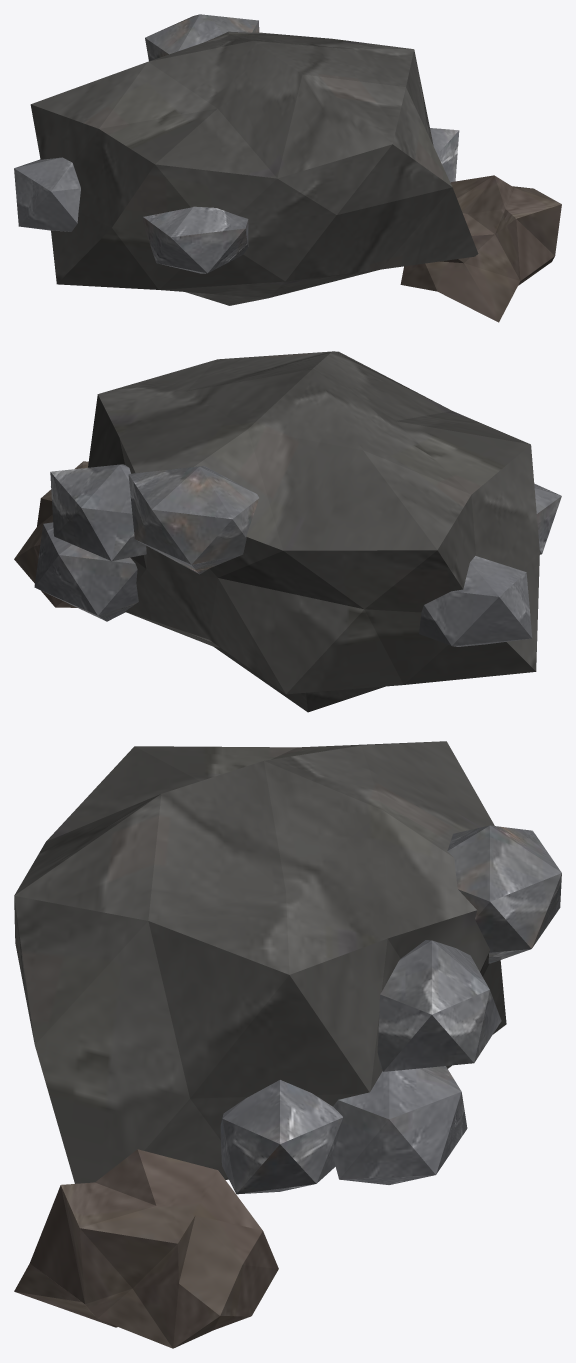
Rendered from tin_ore.glb.
The picture shows the model from 3 angles, top to bottom: view 1: azimuth 30°, elevation 25°; view 2: azimuth 150°, elevation 25°; view 3: azimuth 270°, elevation 25°; orthographic projection. The views are drawn at different scales.
Visible parts, largest first — view 1: model; view 2: model; view 3: model.
Boxes of the visible parts, <box> form: model: <box>14,14,561,322</box>; model: <box>14,351,561,712</box>; model: <box>14,741,561,1348</box>.
Bounding box in the file's own units: 0.3986 × 0.2252 × 0.2604.
Materials: 3 (3 with a texture image).
